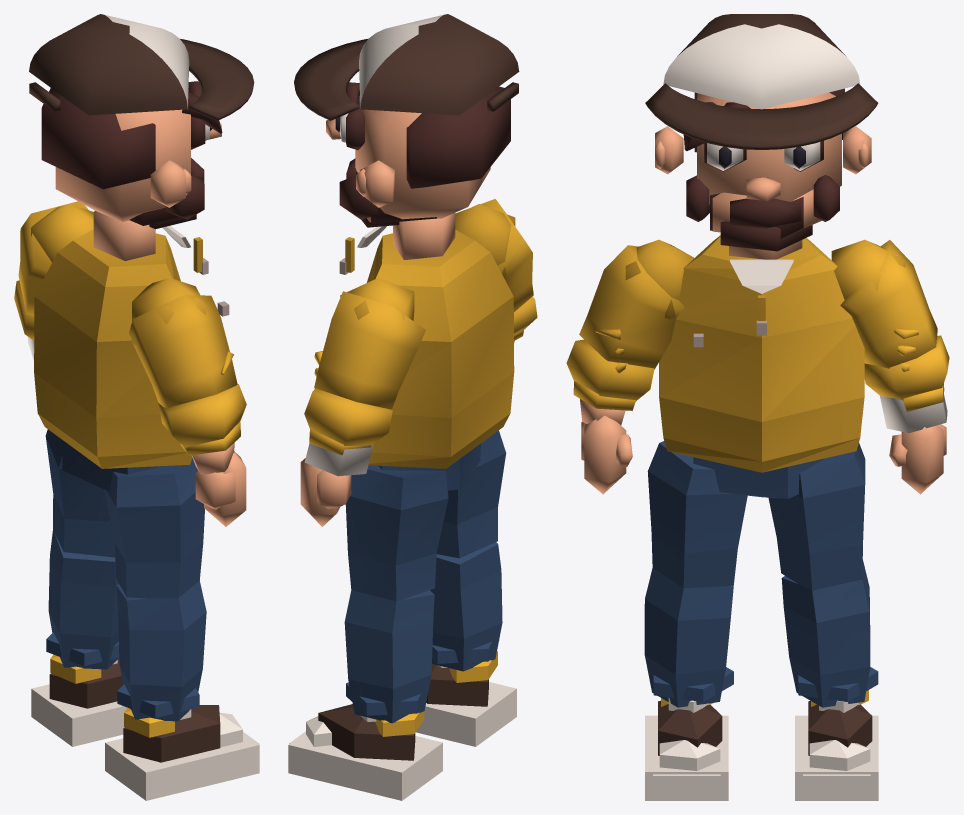
File: npc.civilian-man-b.aftermath.lod2.glb
3 renders of one model, left to right at view 1: azimuth 30°, elevation 25°; view 2: azimuth 150°, elevation 25°; view 3: azimuth 270°, elevation 25°, orthographic.
Parts seen in each view (by area): view 1: head, torso, legR, footR, shinR, armR, shinL, footL, legL, foreArmR, armL, handR (+2 smaller); view 2: head, torso, legL, shinL, footL, armL, shinR, footR, foreArmL, legR, armR, handL (+2 smaller); view 3: head, torso, legR, legL, shinR, shinL, armR, armL, footL, footR, foreArmL, foreArmR (+3 smaller).
Part boxes in pixels (bbox=[...]): head: bbox=[29, 14, 254, 260]; torso: bbox=[34, 226, 229, 468]; legR: bbox=[104, 458, 204, 598]; footR: bbox=[105, 705, 259, 800]; shinR: bbox=[116, 581, 206, 721]; armR: bbox=[129, 278, 237, 407]; shinL: bbox=[46, 530, 119, 669]; footL: bbox=[31, 654, 127, 746]; legL: bbox=[45, 429, 115, 557]; foreArmR: bbox=[158, 384, 246, 474]; armL: bbox=[18, 201, 93, 315]; handR: bbox=[195, 451, 246, 526]; head: bbox=[294, 14, 519, 260]; torso: bbox=[339, 226, 514, 468]; legL: bbox=[345, 465, 448, 601]; shinL: bbox=[344, 590, 434, 723]; footL: bbox=[288, 704, 442, 800]; armL: bbox=[314, 278, 425, 409]; shinR: bbox=[430, 542, 502, 671]; footR: bbox=[416, 651, 516, 746]; foreArmL: bbox=[304, 388, 392, 476]; legR: bbox=[436, 430, 506, 558]; armR: bbox=[455, 199, 533, 311]; handL: bbox=[300, 458, 351, 526]; head: bbox=[645, 14, 878, 259]; torso: bbox=[659, 235, 864, 472]; legR: bbox=[647, 441, 747, 588]; legL: bbox=[768, 443, 865, 590]; shinR: bbox=[644, 568, 733, 707]; shinL: bbox=[781, 559, 878, 707]; armR: bbox=[579, 239, 694, 369]; armL: bbox=[831, 239, 937, 368]; footL: bbox=[795, 690, 878, 800]; footR: bbox=[645, 698, 728, 800]; foreArmL: bbox=[864, 335, 949, 433]; foreArmR: bbox=[566, 339, 654, 425].
Bounding box in the file's own units: 0.5123 × 1.79 × 0.8433.
